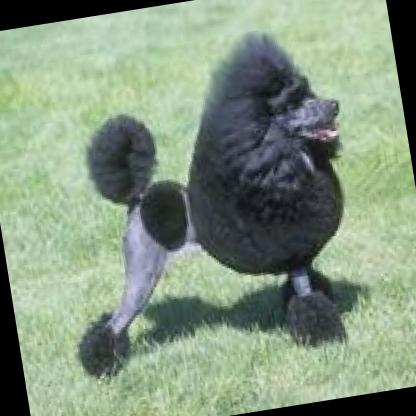standard_poodle: (15, 8, 387, 390)
